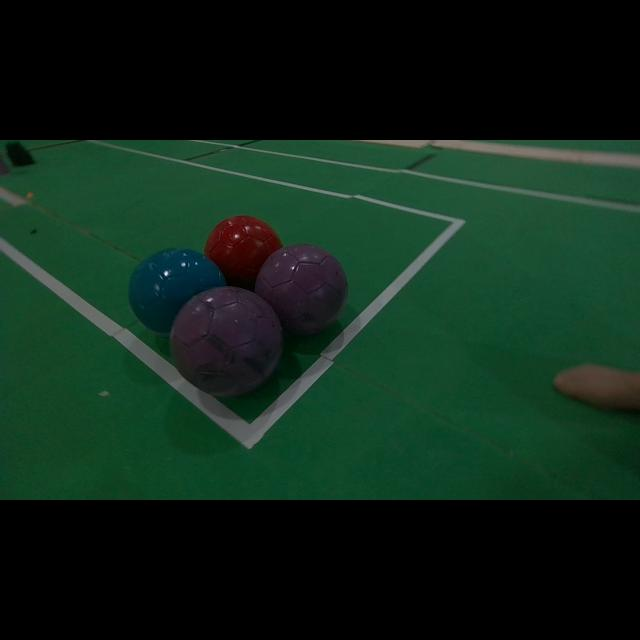B: (129, 249, 226, 336)
P: (170, 286, 282, 398), (255, 244, 348, 335)
R: (205, 215, 282, 291)
